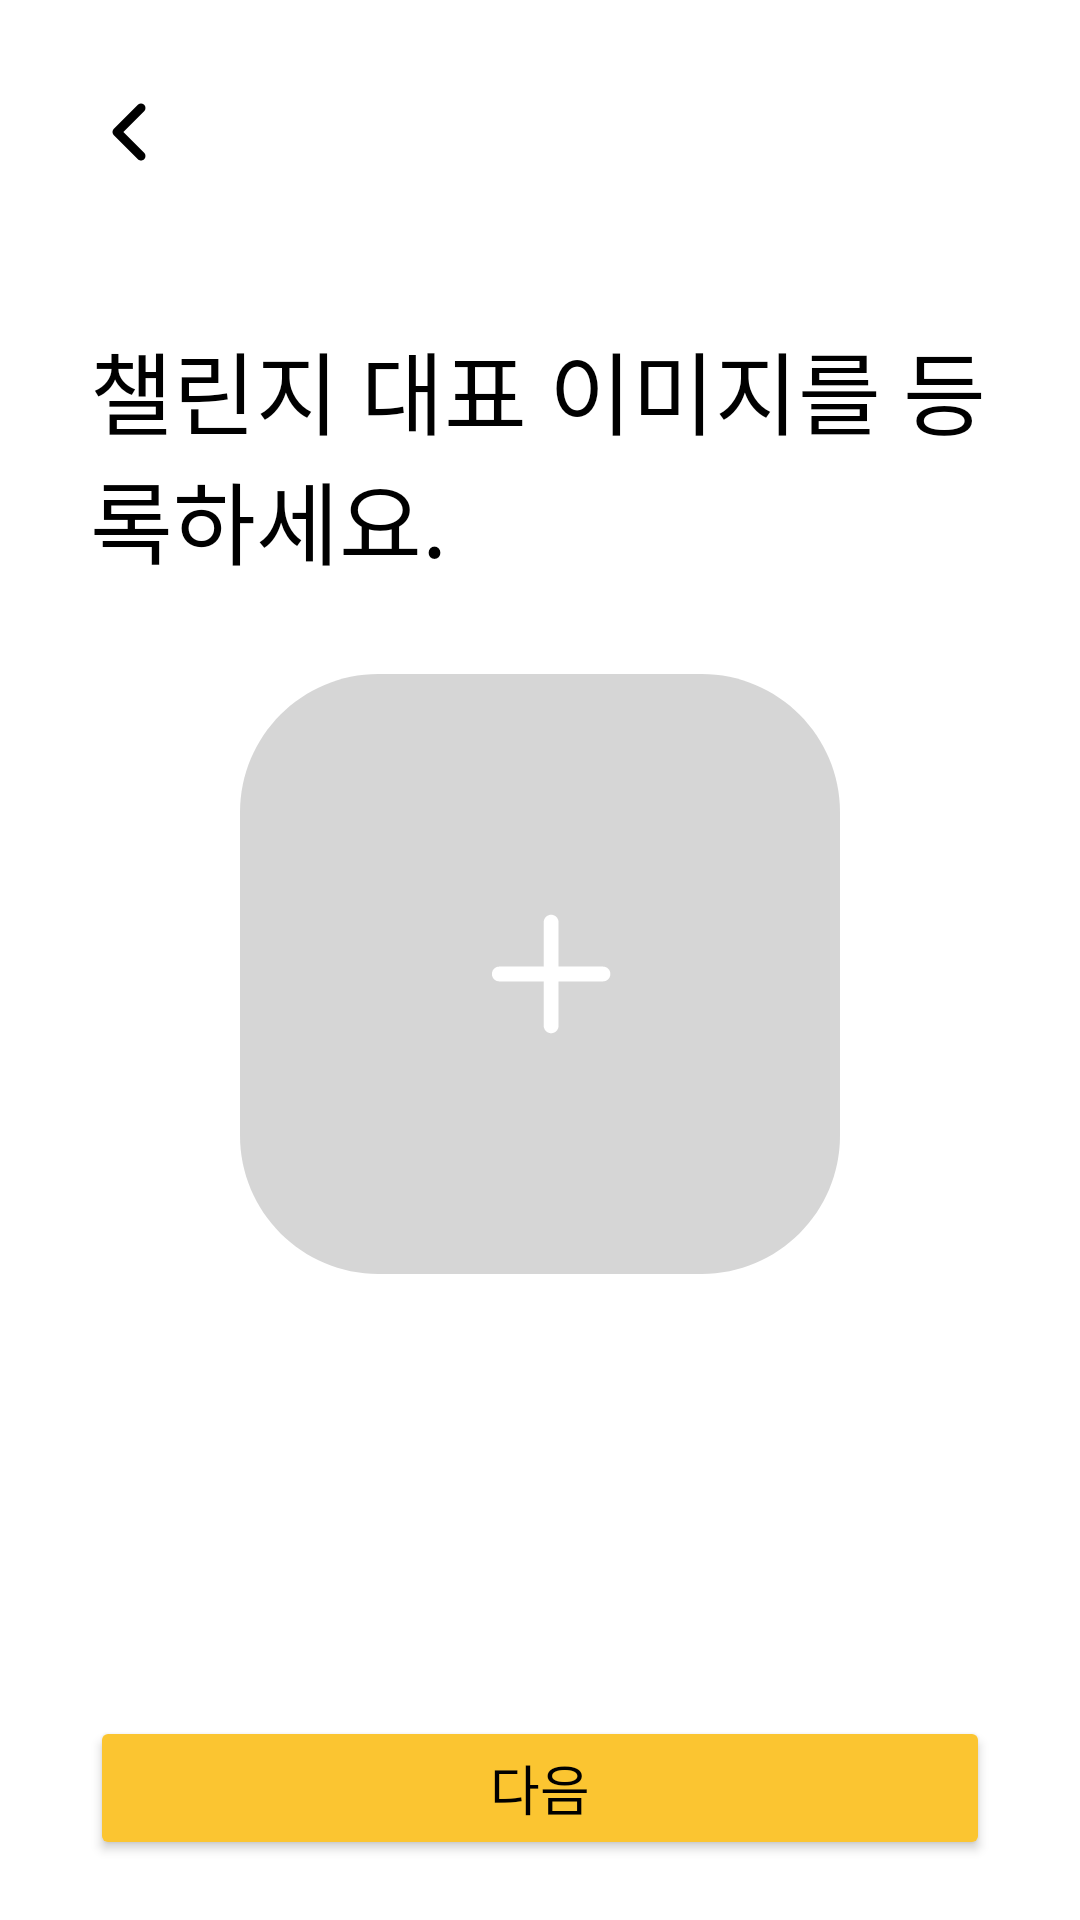

Point at icon controls on the screen. Image size 1080×1920, points as point (x, y).
back: point (129, 132)
